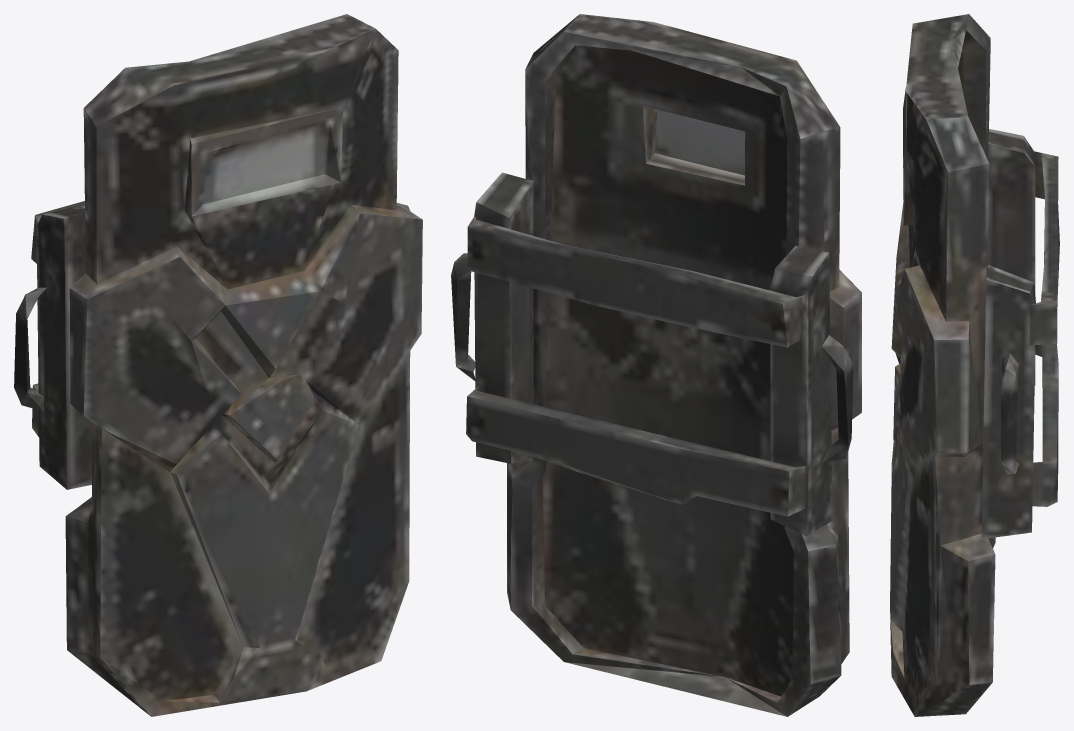
The model's file is prop.shield_guard.glb.
The picture shows the model from 3 angles, left to right: view 1: azimuth 30°, elevation 25°; view 2: azimuth 150°, elevation 25°; view 3: azimuth 270°, elevation 25°; orthographic projection. The views are drawn at different scales.
Visible parts, largest first — view 1: body; view 2: body; view 3: body.
Part boxes in pixels (x1,y1,x2,y2): body: (14,14,422,716); body: (451,14,861,716); body: (890,14,1059,716).
Size of the model in its own units: 0.331 by 0.4996 by 0.1288.
1 material, 1 textured.
